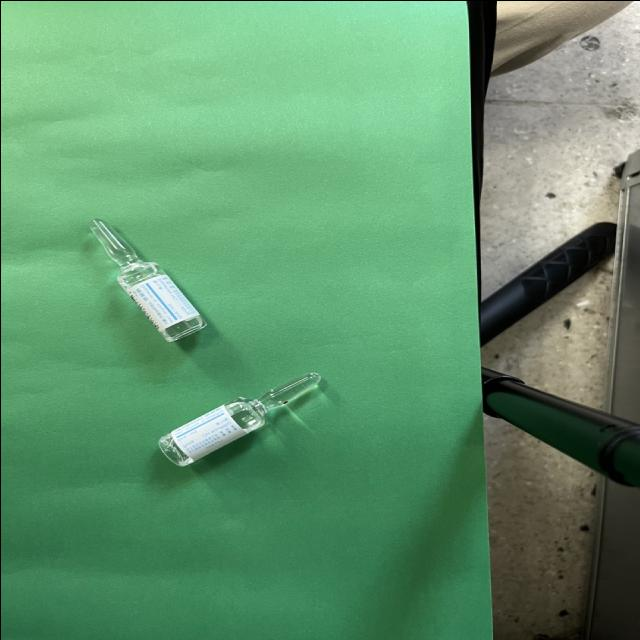Ampoules: (158, 372, 321, 466), (90, 218, 205, 341)
